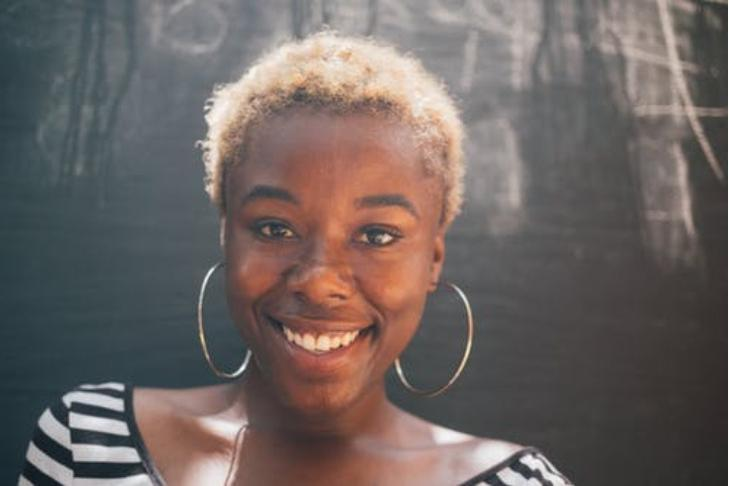face: (226, 109, 440, 417)
